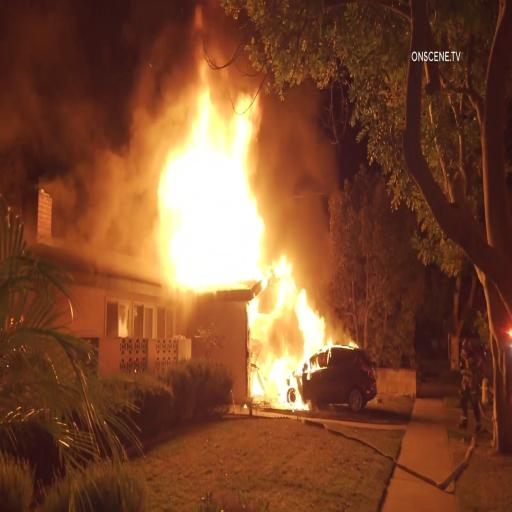fire: (154, 81, 266, 287), (258, 278, 334, 430)
smoke: (2, 2, 152, 272), (0, 0, 205, 60), (268, 61, 324, 246)
